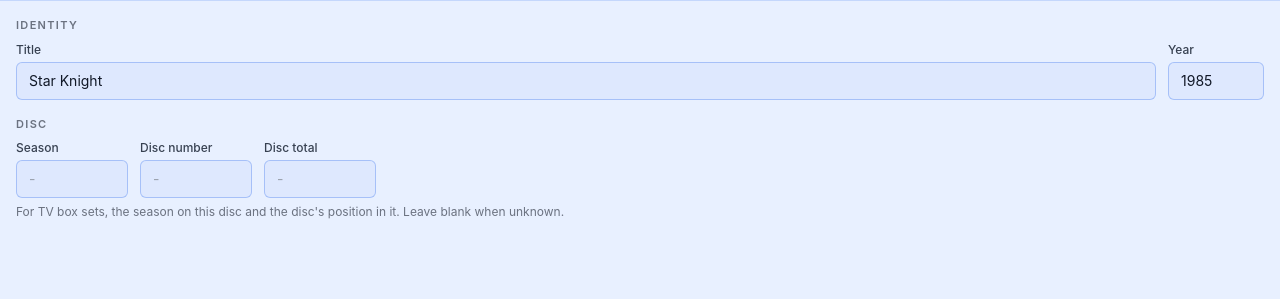
JobInfoForm › blank Title disables Save
Clear the field labelled "Title" at (586, 80), box [16, 62, 1156, 100]
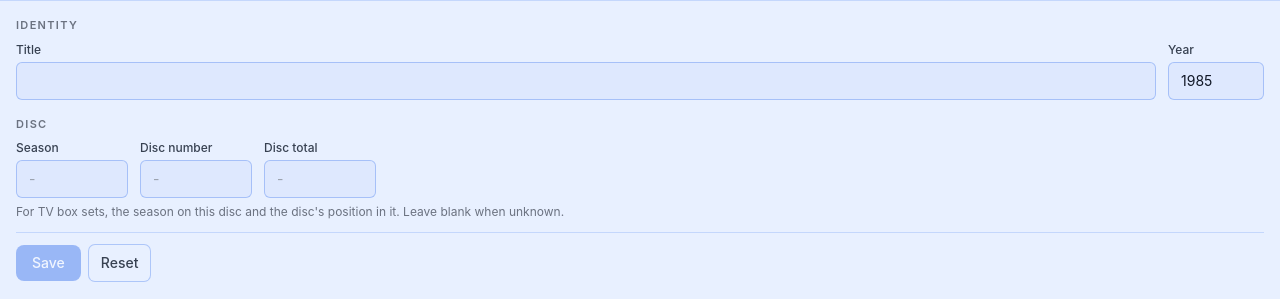
Check: the button "Save" is disabled, box [16, 245, 81, 281]
